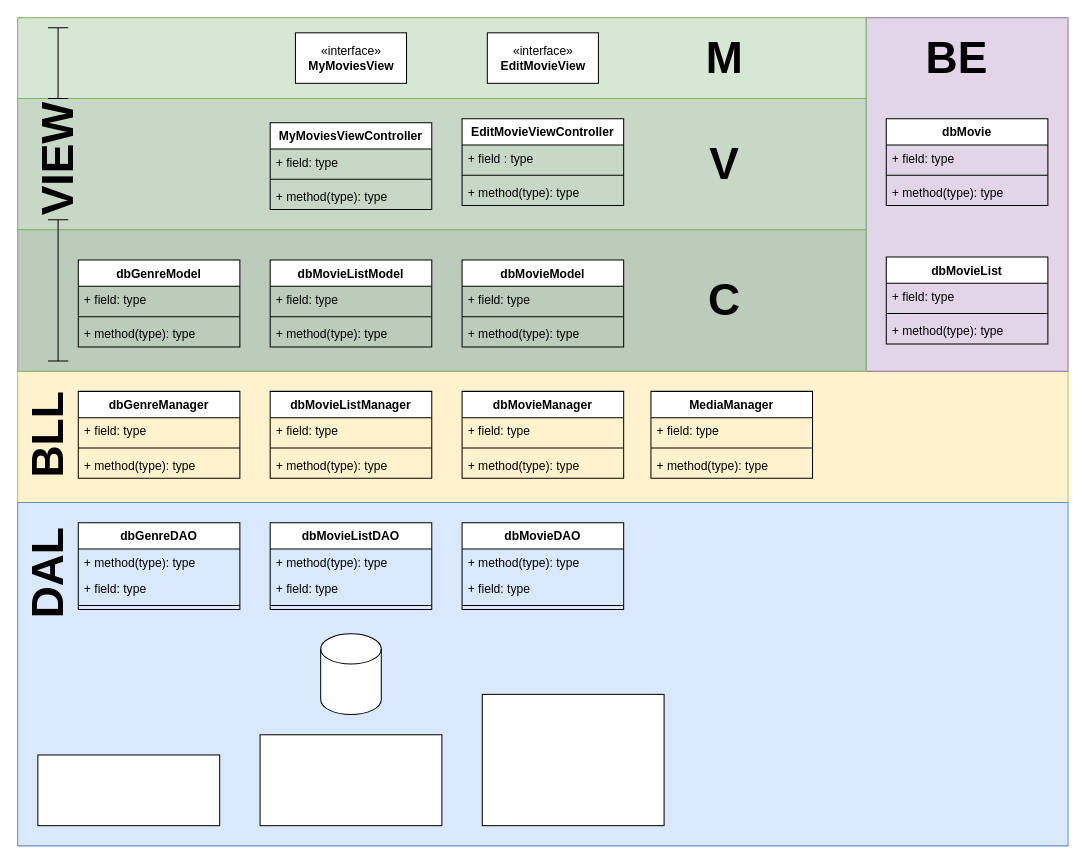
Image size: 1086x864. Some labels were removed from this diagram. Here are the shapes that lost their labels. From the top down, the centre of each, then its label:
the point at 572,759: Movie PK Id Unique Title imdbRating UserRating Filepath LastSeen
the point at 128,790: Genre PK Id Unique Genre
the point at 350,780: GenreMovie PK Id FK1 MovieId FK2 GenreId
